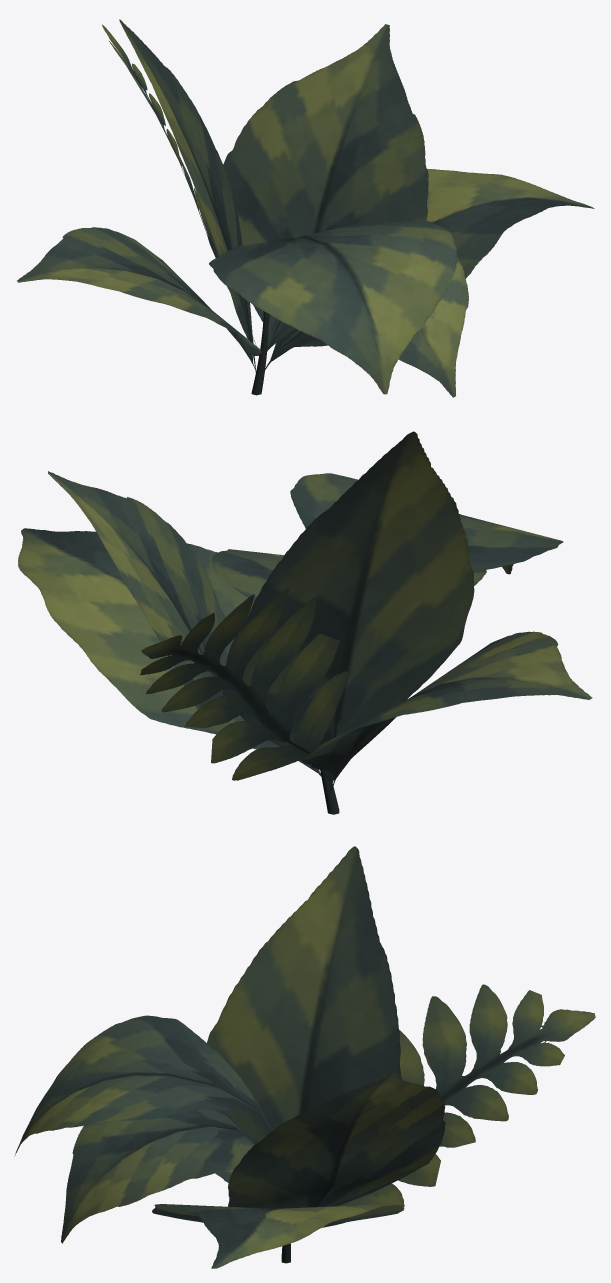
Rendered from SM_FR_BushSpreading.fbx.
3 views of the same model, one above another, from view 1: azimuth 30°, elevation 25°; view 2: azimuth 150°, elevation 25°; view 3: azimuth 270°, elevation 25° (orthographic). The views are drawn at different scales.
Parts seen in each view (by area): view 1: SM_FR_BushSpreading; view 2: SM_FR_BushSpreading; view 3: SM_FR_BushSpreading.
Part boxes in pixels (bbox=[...]): SM_FR_BushSpreading: bbox=[17, 19, 594, 397]; SM_FR_BushSpreading: bbox=[18, 431, 592, 814]; SM_FR_BushSpreading: bbox=[14, 846, 595, 1268].
Bounding box in the file's own units: 2.07 × 1.39 × 2.01.
1 material, 1 textured.
